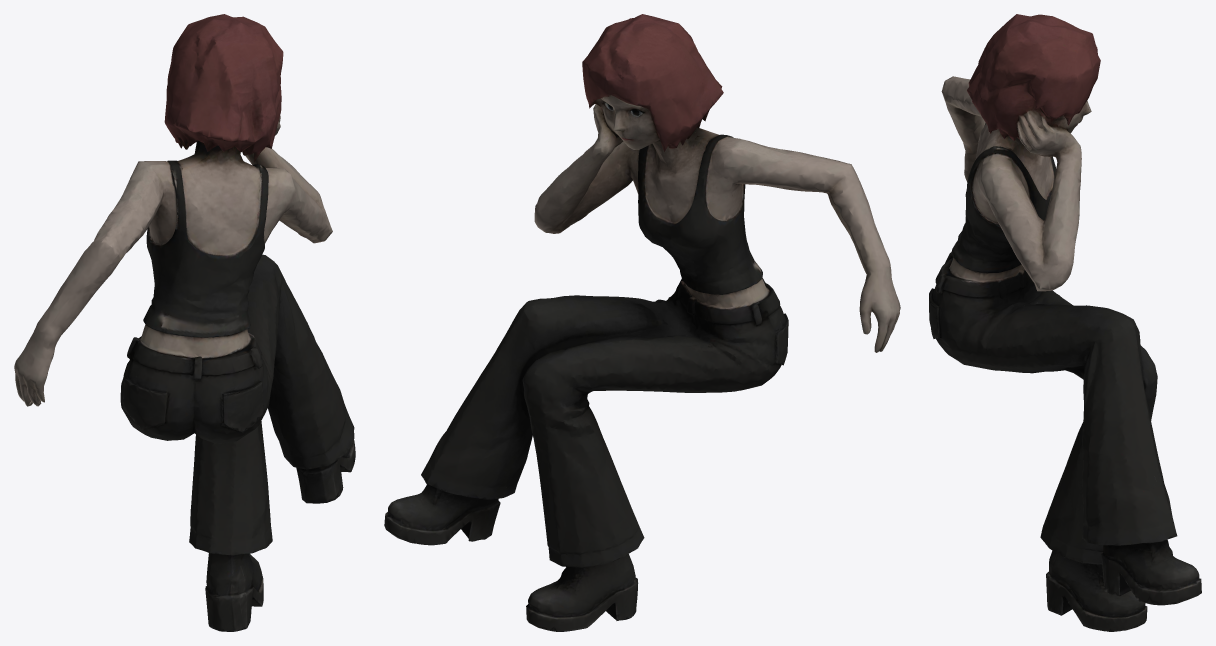
Rendered from kadin_oturuyor.glb.
3 renders of one model, left to right at view 1: azimuth 30°, elevation 25°; view 2: azimuth 150°, elevation 25°; view 3: azimuth 270°, elevation 25°, orthographic. The views are drawn at different scales.
Visible parts, largest first — view 1: tripo_node_35ecdcb3-e336-4170-93db-cc6e3ec0d32c; view 2: tripo_node_35ecdcb3-e336-4170-93db-cc6e3ec0d32c; view 3: tripo_node_35ecdcb3-e336-4170-93db-cc6e3ec0d32c.
Boxes of the visible parts, x1=… form: tripo_node_35ecdcb3-e336-4170-93db-cc6e3ec0d32c: x1=14, y1=14, x2=355, y2=631; tripo_node_35ecdcb3-e336-4170-93db-cc6e3ec0d32c: x1=384, y1=14, x2=900, y2=631; tripo_node_35ecdcb3-e336-4170-93db-cc6e3ec0d32c: x1=929, y1=14, x2=1201, y2=631.
Size of the model in its own units: 0.7342 by 0.9991 by 0.4246.
Materials: 1 (1 with a texture image).
